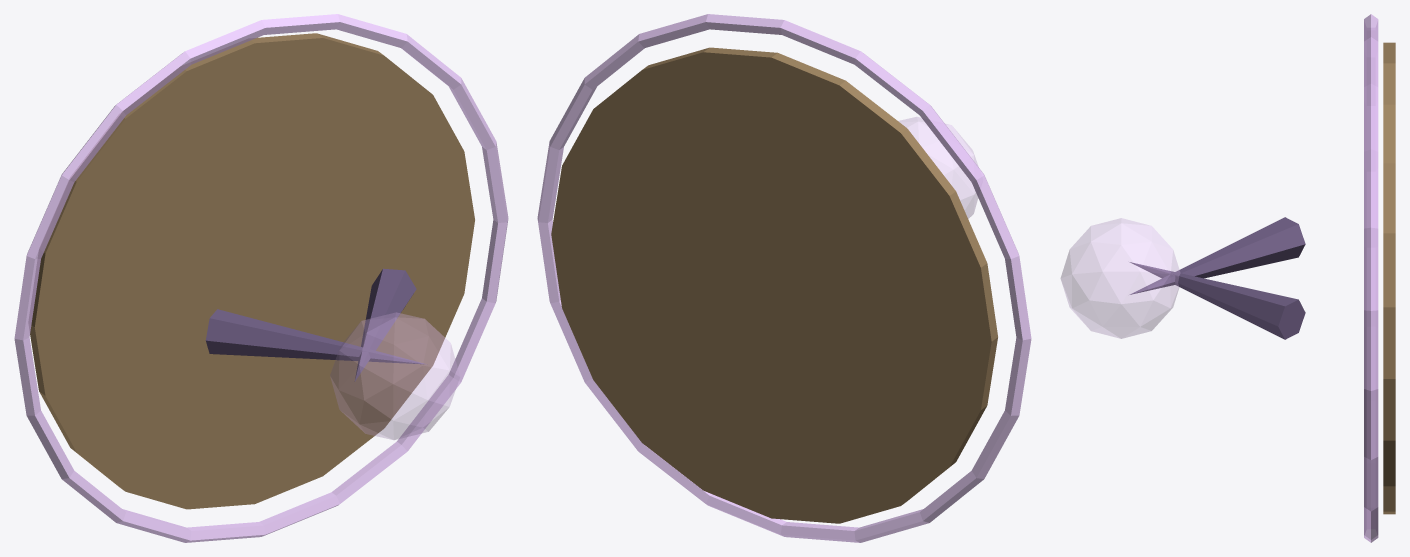
The model's file is 07_weather_terrain_nature_effect.glb.
3 renders of one model, left to right at view 1: azimuth 30°, elevation 25°; view 2: azimuth 150°, elevation 25°; view 3: azimuth 270°, elevation 25°, orthographic. The views are drawn at different scales.
Parts seen in each view (by area): view 1: terrain_patch, weather_boundary, weather_orb, root_spike_l, root_spike_r; view 2: terrain_patch, weather_boundary, weather_orb; view 3: weather_orb, weather_boundary, terrain_patch, root_spike_r, root_spike_l.
Boxes of the visible parts, x1,y1,x2,y2 form: terrain_patch: (29,33,474,509); weather_boundary: (14,14,508,542); weather_orb: (330,312,459,439); root_spike_l: (205,309,425,364); root_spike_r: (354,268,416,381); terrain_patch: (551,47,997,523); weather_boundary: (537,14,1031,542); weather_orb: (898,117,978,218); weather_orb: (1060,218,1180,338); weather_boundary: (1364,14,1378,542); terrain_patch: (1383,42,1395,514); root_spike_r: (1130,262,1305,339); root_spike_l: (1130,217,1305,294).
Bounding box in the file's own units: 1.75 × 1.75 × 1.1.
